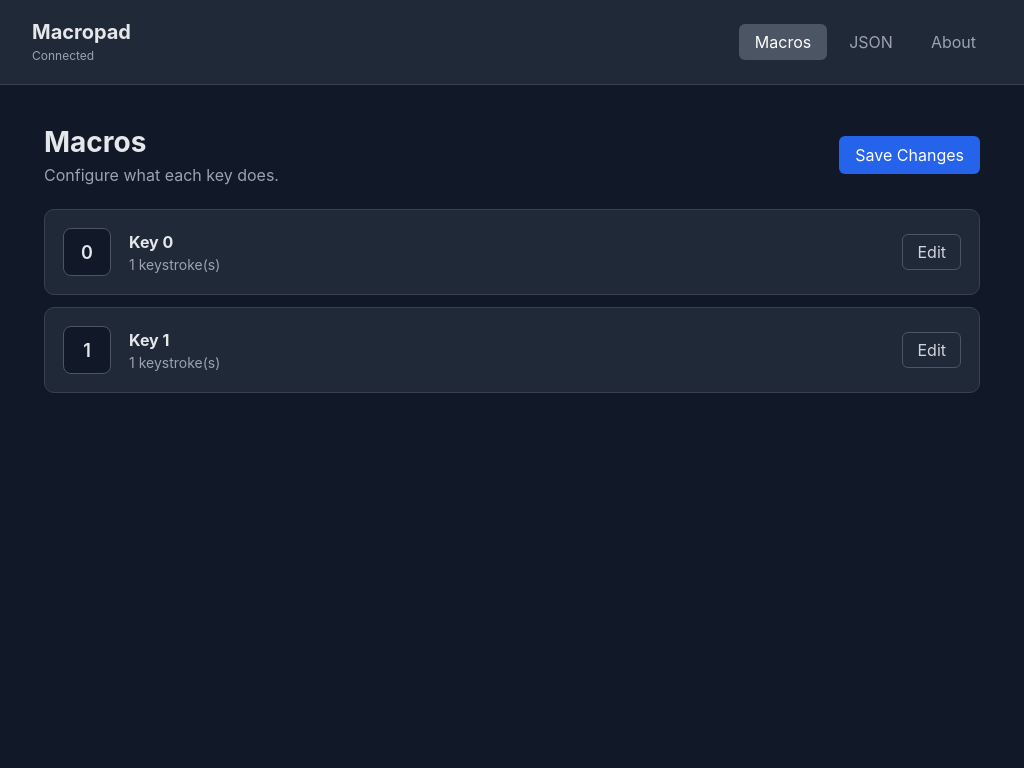
Test: App › navigates to the JSON page
The image size is (1024, 768).
Expected: the heading "Macros" is shown, [44,125,146,159]
Click the button "JSON" at (871, 42), box [833,24,909,60]
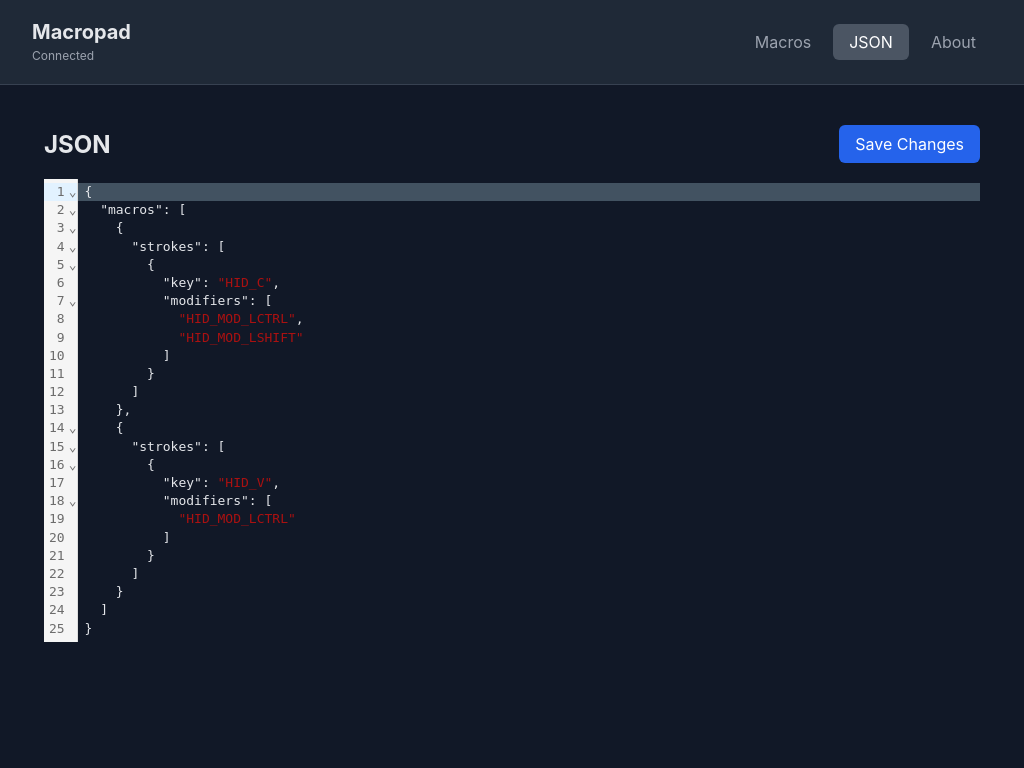
Expected: the heading "JSON" is shown, [44,130,110,158]
